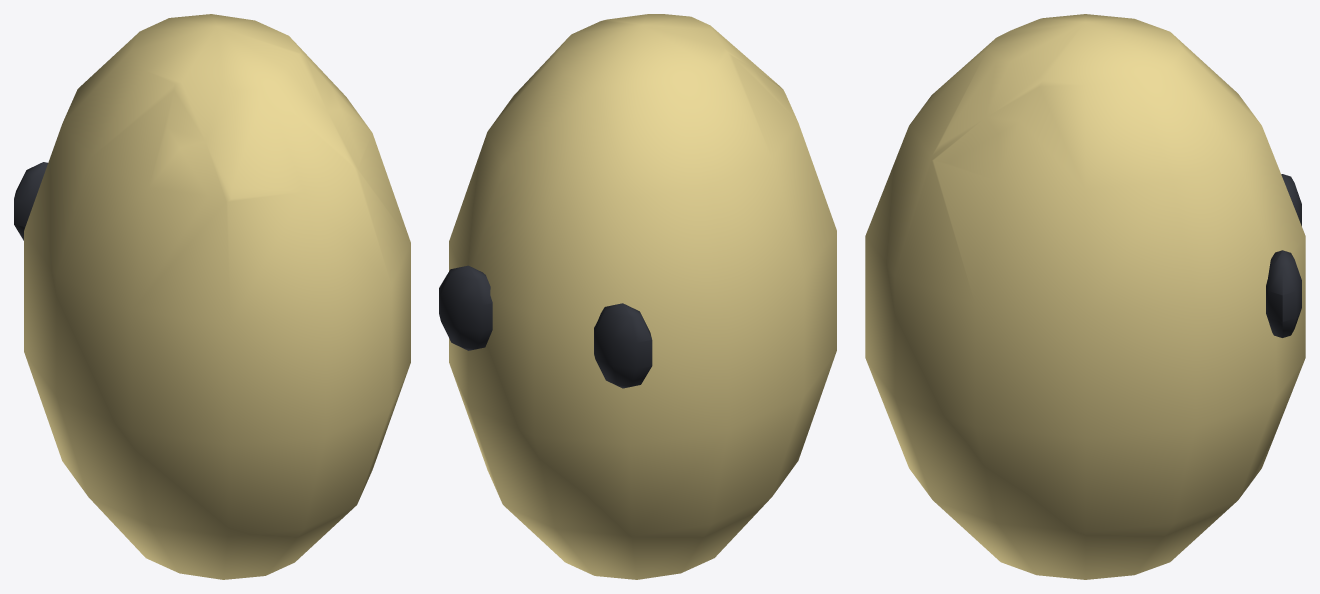
The model's file is gorehulk_c_head.obj.
3 renders of one model, left to right at view 1: azimuth 30°, elevation 25°; view 2: azimuth 150°, elevation 25°; view 3: azimuth 270°, elevation 25°, orthographic.
Parts seen in each view (by area): view 1: source_component_000, source_component_001; view 2: source_component_000, source_component_001, source_component_002; view 3: source_component_000, source_component_002.
Part boxes in pixels (x1,y1,x2,y2): source_component_000: [24, 14, 410, 579]; source_component_001: [14, 162, 47, 240]; source_component_000: [449, 14, 836, 579]; source_component_001: [594, 303, 652, 388]; source_component_002: [439, 265, 492, 350]; source_component_000: [865, 14, 1305, 579]; source_component_002: [1266, 250, 1301, 337].
Bounding box in the file's own units: 0.2925 × 0.47 × 0.3412.
